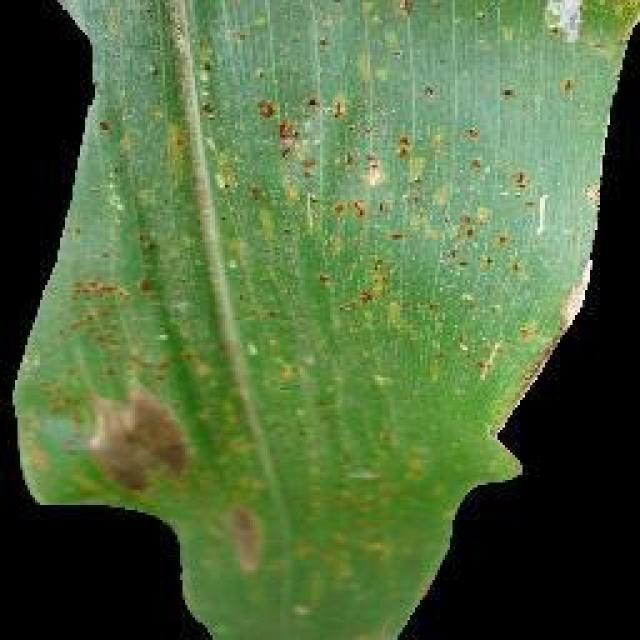Corn Common Rust: (143, 22, 570, 565)
